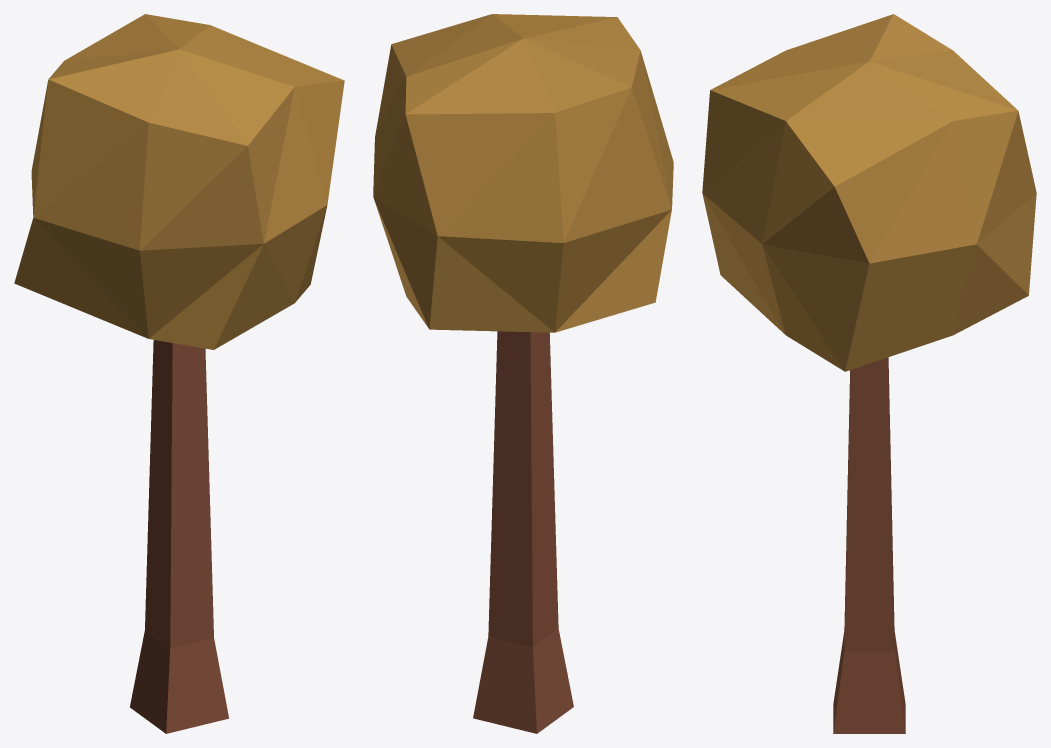
Rendered from Tree_42_autumn_mat.fbx.
The picture shows the model from 3 angles, left to right: view 1: azimuth 30°, elevation 25°; view 2: azimuth 150°, elevation 25°; view 3: azimuth 270°, elevation 25°; orthographic projection. The views are drawn at different scales.
Parts seen in each view (by area): view 1: Tree_42_autumn_mat; view 2: Tree_42_autumn_mat; view 3: Tree_42_autumn_mat.
Part boxes in pixels (<box>): Tree_42_autumn_mat: <box>14,14,344,733</box>; Tree_42_autumn_mat: <box>373,14,673,733</box>; Tree_42_autumn_mat: <box>702,14,1036,733</box>.
Bounding box in the file's own units: 98.78 × 212 × 97.79.
